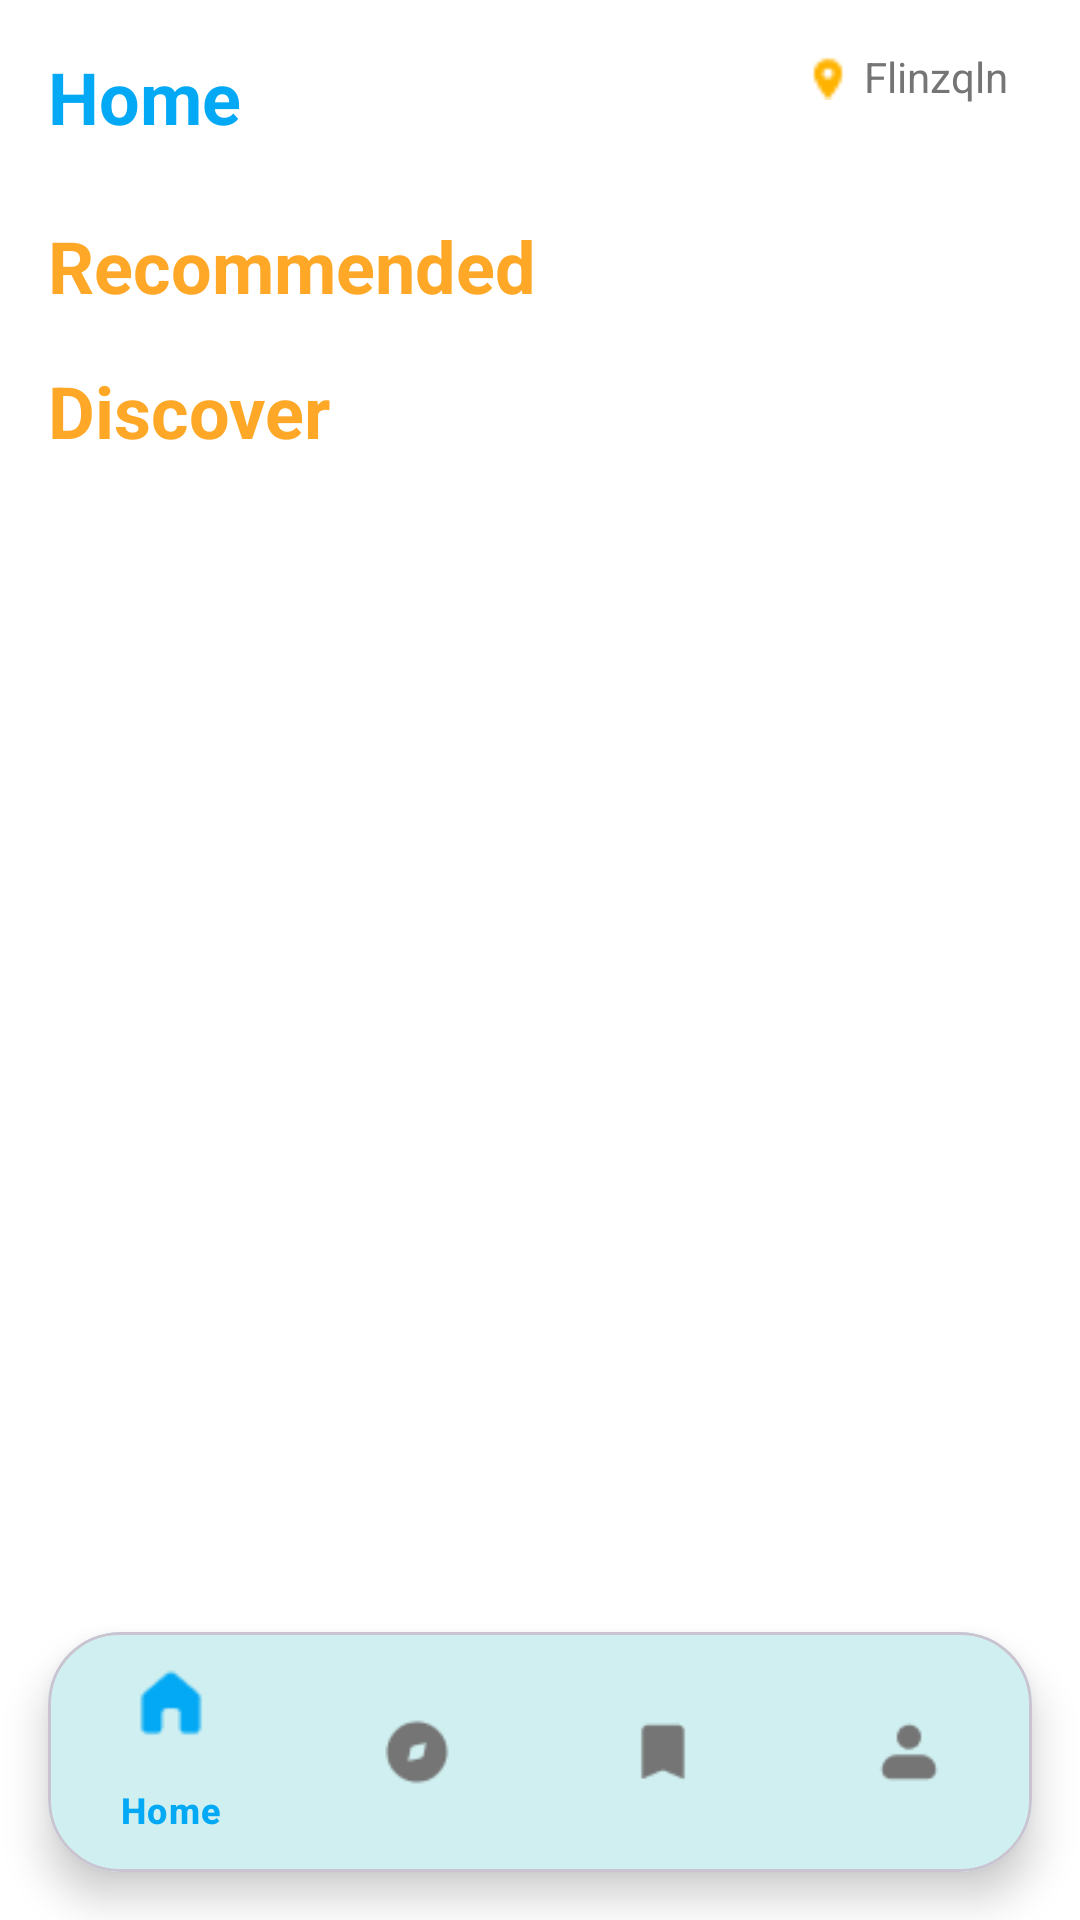

Icons on this 1080*1920 Android screen, each with the point to tap as (x,y):
location: (828,79)
